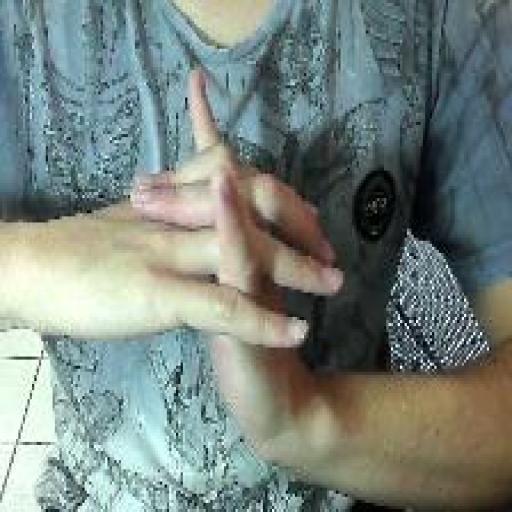Ushi -ox-: (129, 62, 346, 471)
